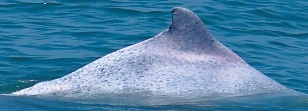fin: (6, 5, 293, 104)
